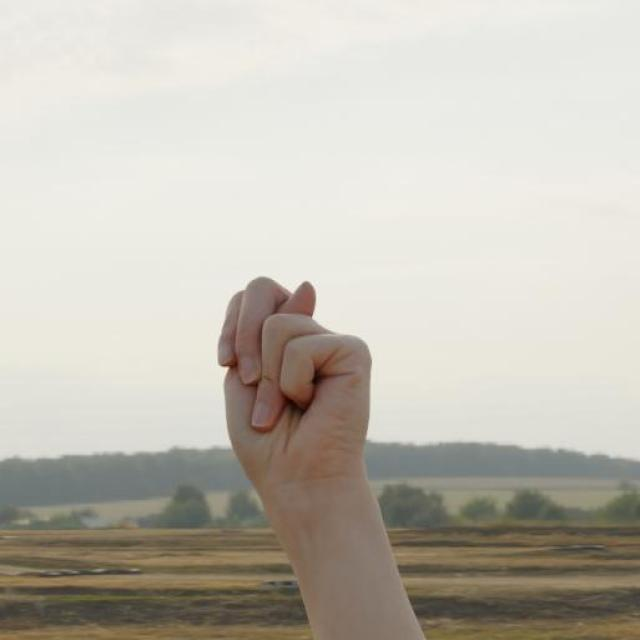N: (213, 266, 377, 554)
